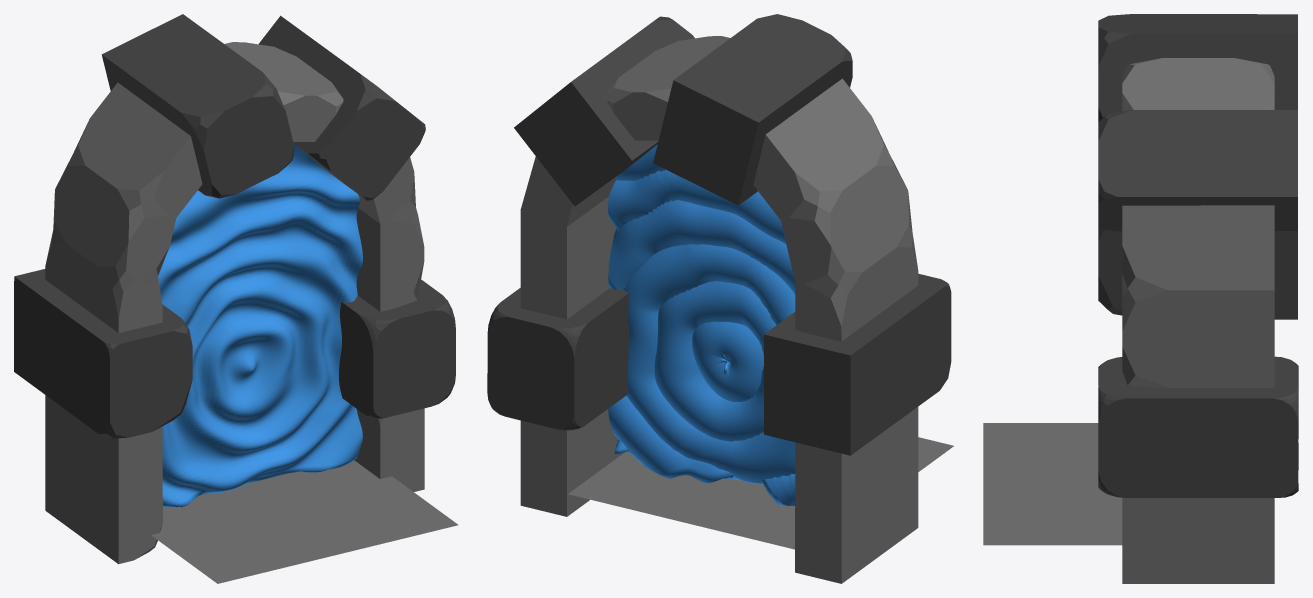
File: portal.fbx
3 renders of one model, left to right at view 1: azimuth 30°, elevation 25°; view 2: azimuth 150°, elevation 25°; view 3: azimuth 270°, elevation 25°, orthographic. The views are drawn at different scales.
Parts seen in each view (by area): view 1: Plane, Plane.001, Plane.002; view 2: Plane, Plane.001, Plane.002; view 3: Plane, Plane.001.
Part boxes in pixels (x1,y1,x2,y2): Plane: [45, 42, 458, 583]; Plane.001: [14, 14, 455, 438]; Plane.002: [158, 144, 362, 507]; Plane: [520, 36, 953, 583]; Plane.001: [487, 14, 951, 455]; Plane.002: [608, 144, 795, 505]; Plane: [983, 58, 1274, 583]; Plane.001: [1098, 14, 1298, 497].
Size of the model in its own units: 309 by 385 by 234.
